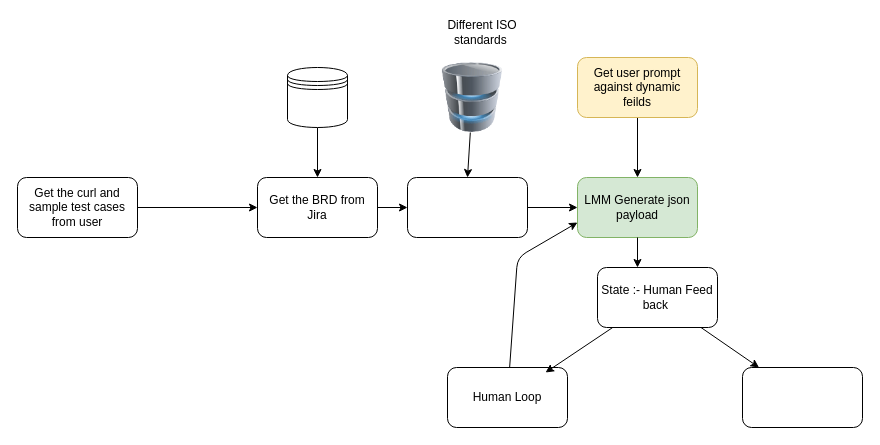
Image size: 880x445. Some labels were removed from this diagram. The centre of each missing label's shape, as x and y in pixels:
END: pixel 802 397
ISO standards knowledge base is added: pixel 467 207
Jira: pixel 317 97
